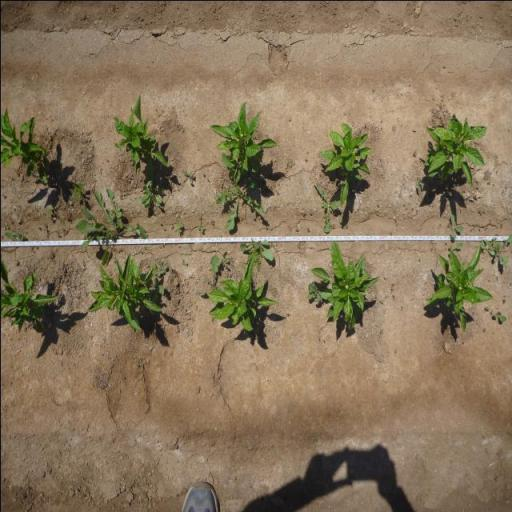plant: (425, 247, 494, 335), (311, 241, 379, 330), (208, 99, 280, 182), (84, 256, 153, 335), (316, 117, 374, 210), (206, 257, 276, 332), (422, 109, 487, 189), (0, 262, 62, 334), (109, 94, 169, 168), (0, 106, 51, 184)
weed: (73, 183, 149, 265), (215, 180, 267, 231), (313, 182, 340, 234), (138, 163, 165, 209), (195, 253, 224, 293), (480, 234, 512, 268), (237, 237, 274, 261), (307, 278, 331, 302), (245, 245, 263, 272), (148, 277, 165, 301), (448, 212, 463, 238), (71, 178, 85, 198), (3, 230, 25, 240), (134, 356, 146, 370), (414, 177, 424, 193), (182, 170, 194, 183), (493, 311, 507, 322), (220, 250, 228, 268), (448, 241, 462, 251), (151, 260, 160, 274), (158, 260, 166, 274), (196, 214, 202, 226), (270, 242, 277, 252), (176, 221, 181, 235), (61, 226, 68, 236), (227, 255, 233, 266), (2, 220, 8, 230), (180, 259, 187, 266), (478, 208, 486, 214), (198, 224, 204, 232), (46, 206, 52, 214), (304, 226, 310, 233), (208, 218, 214, 225), (142, 245, 148, 251), (483, 305, 490, 310), (296, 241, 300, 249), (294, 225, 298, 233), (412, 150, 417, 156), (378, 298, 383, 304), (285, 312, 290, 317), (379, 328, 383, 334), (160, 243, 166, 247), (272, 291, 275, 298), (254, 333, 258, 338), (162, 227, 166, 230), (170, 224, 172, 229), (490, 310, 492, 314)
